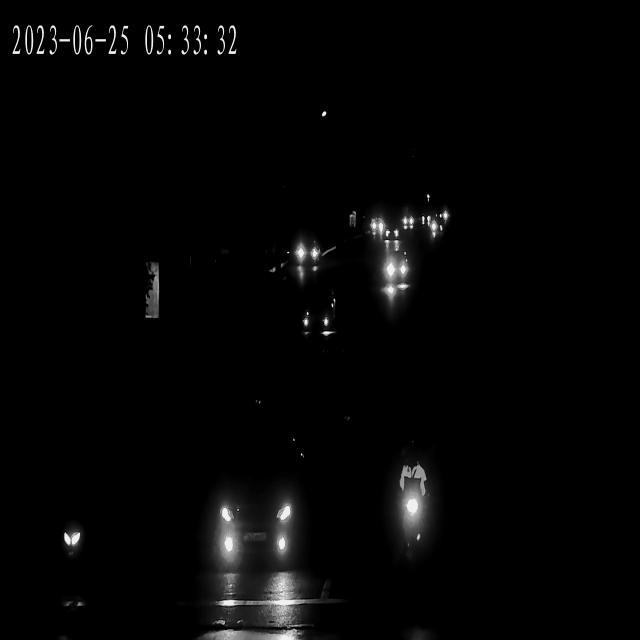Car: (216, 425, 305, 566), (305, 282, 341, 350), (292, 226, 324, 276), (384, 252, 411, 298), (426, 213, 438, 248), (384, 225, 399, 250), (371, 218, 384, 243), (402, 213, 414, 240)
Motorcycle: (392, 454, 436, 612), (61, 468, 100, 591)
